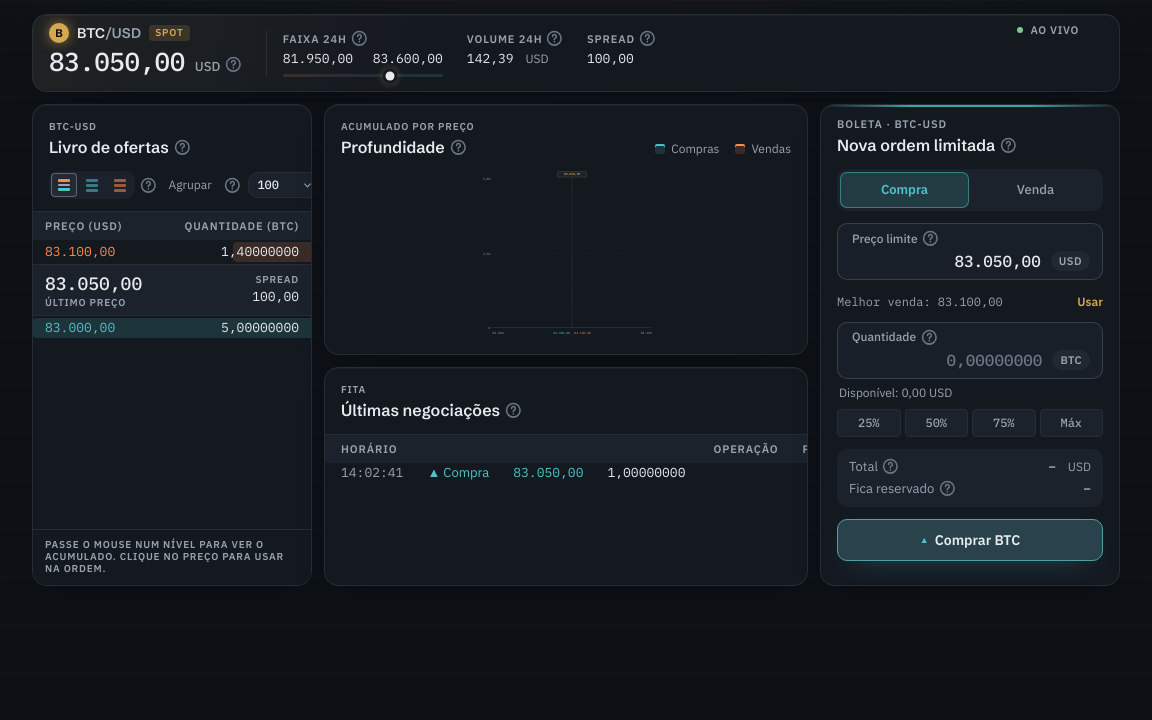
Test: Market page › Should show every panel side by side, without tabs, on a desktop
The width and height of the screenshot is (1152, 720).
Click the button named "Usar o preço 83.000,00": (80, 328) [43,318,117,338]
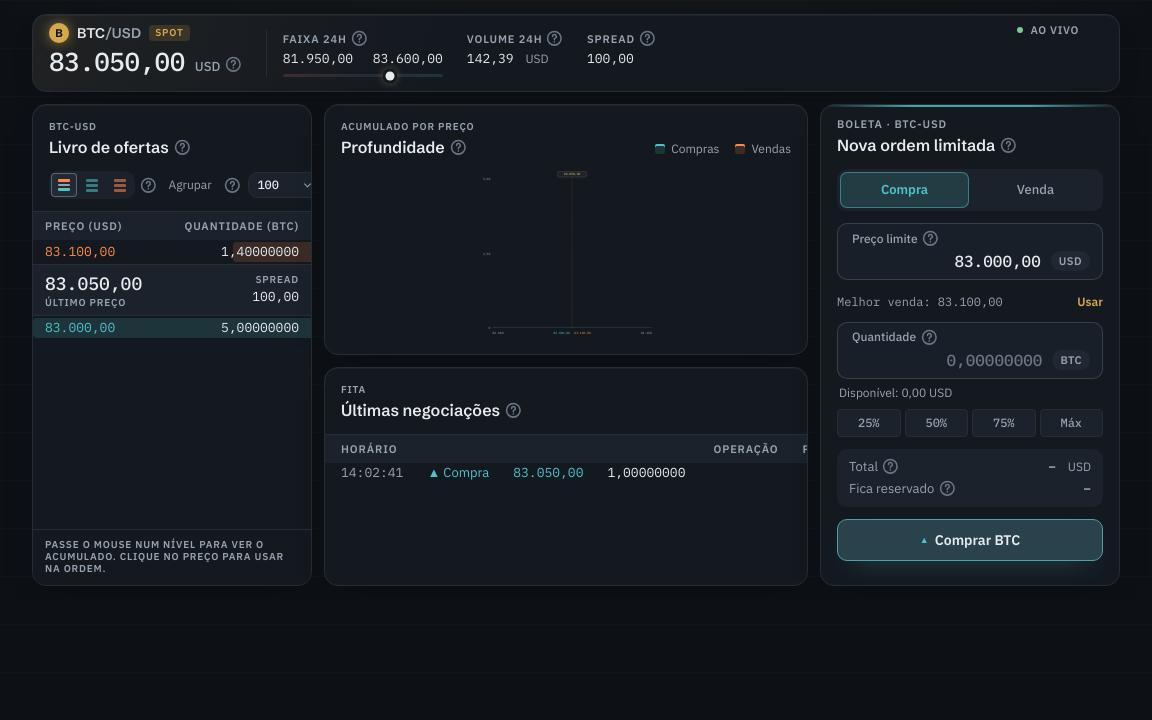
Expected: the heading "Livro de ofertas" is shown, [49,135,169,159]
Expected: the field labelled "Preço limite" holds "83.000,00", [852,249,1041,273]
